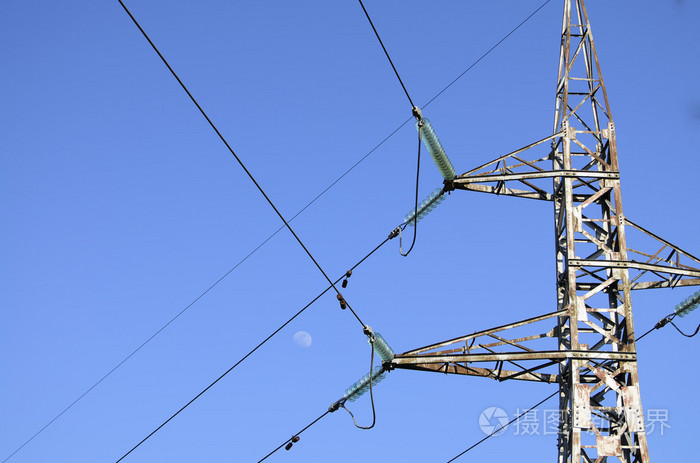insulator: (416, 118, 456, 182), (346, 366, 387, 405), (404, 191, 444, 225), (368, 331, 395, 365), (673, 290, 700, 317)
